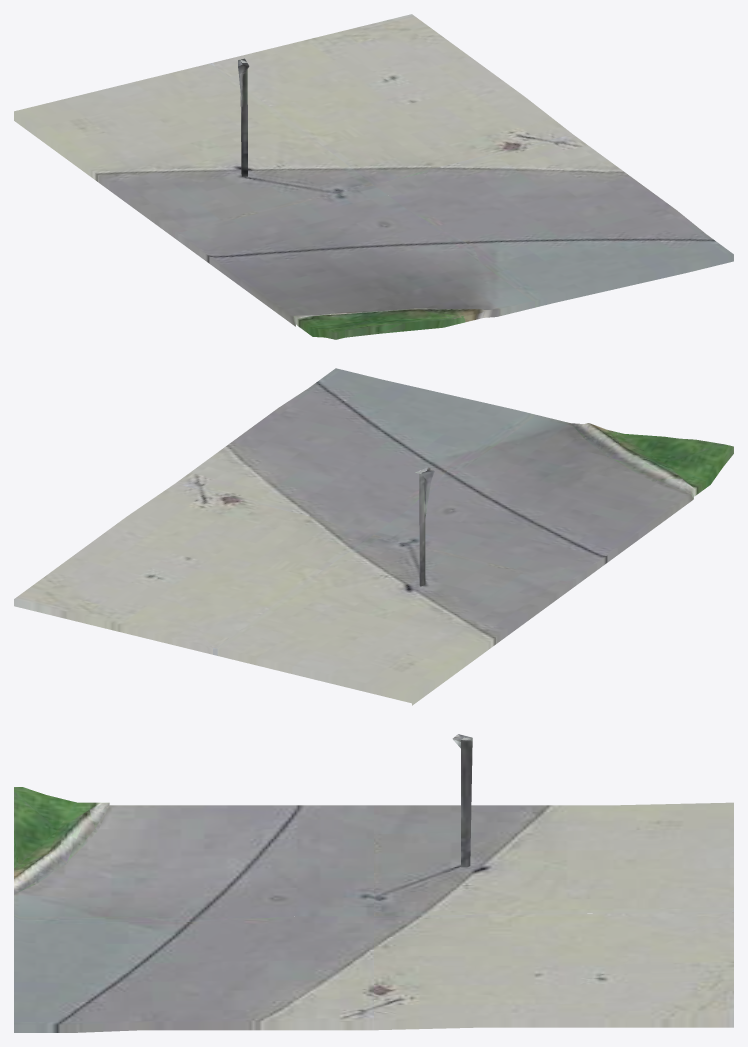
3 views of the same model, one above another, from view 1: azimuth 30°, elevation 25°; view 2: azimuth 150°, elevation 25°; view 3: azimuth 270°, elevation 25° (orthographic). The views are drawn at different scales.
Visible parts, largest first — view 1: 30436272704370425700_0; view 2: 30436272704370425700_0; view 3: 30436272704370425700_0.
Part boxes in pixels (x1=…): 30436272704370425700_0: x1=14, y1=14, x2=733, y2=339; 30436272704370425700_0: x1=14, y1=368, x2=733, y2=705; 30436272704370425700_0: x1=14, y1=734, x2=733, y2=1032.
Size of the model in its own units: 27.32 by 9.25 by 38.26.
Materials: 1 (1 with a texture image).
